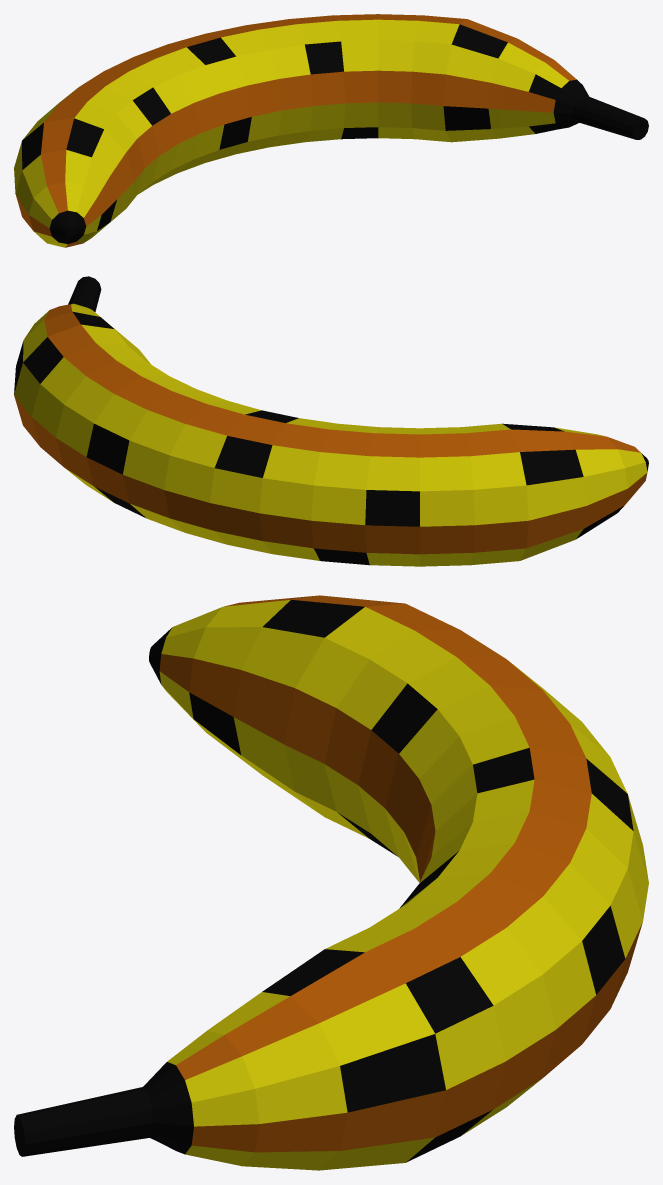
The model's file is bananaFollow.obj.
3 renders of one model, top to bottom at view 1: azimuth 30°, elevation 25°; view 2: azimuth 150°, elevation 25°; view 3: azimuth 270°, elevation 25°, orthographic. The views are drawn at different scales.
Visible parts, largest first — view 1: Torus.001; view 2: Torus.001; view 3: Torus.001.
Part boxes in pixels (bbox=[...]): Torus.001: bbox=[14, 14, 648, 247]; Torus.001: bbox=[14, 276, 648, 566]; Torus.001: bbox=[14, 595, 648, 1170].
Bounding box in the file's own units: 21.53 × 4.17 × 11.56.
Materials: 1 (1 with a texture image).
